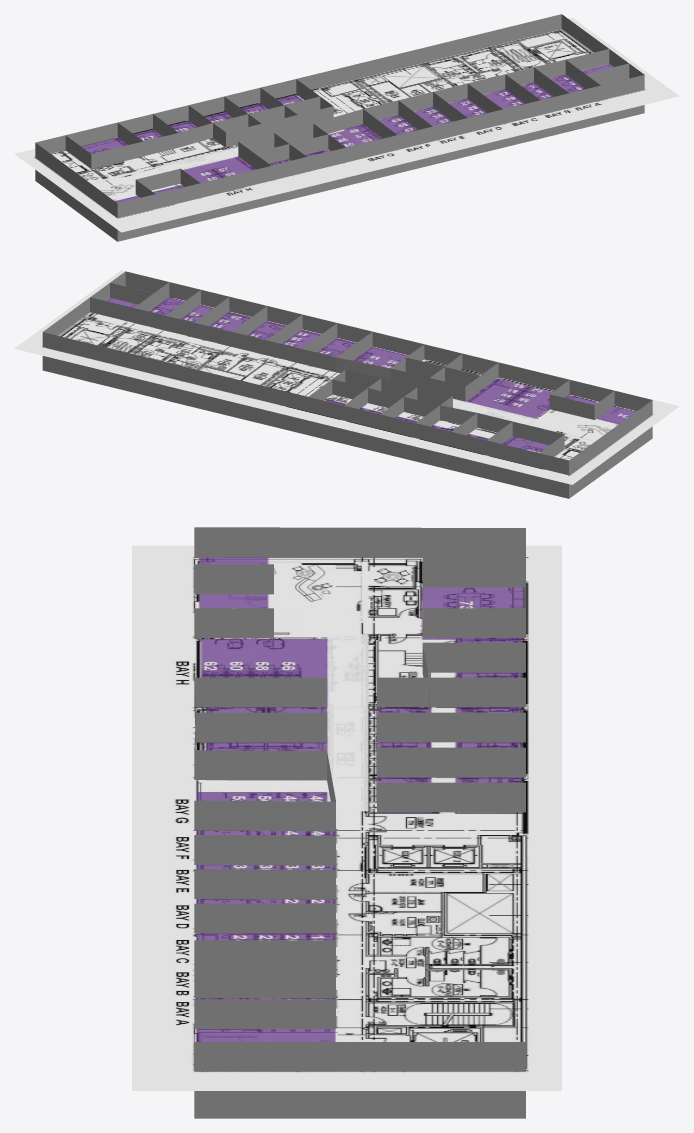
Rendered from floorplan_7th.glb.
3 renders of one model, top to bottom at view 1: azimuth 30°, elevation 25°; view 2: azimuth 150°, elevation 25°; view 3: azimuth 270°, elevation 25°, orthographic. The views are drawn at different scales.
Visible parts, largest first — view 1: Plane, seventhfloor; view 2: Plane, seventhfloor; view 3: seventhfloor, Plane.
Part boxes in pixels (box(x1,y1,x2,y2)): Plane: box(35, 14, 644, 241); seventhfloor: box(14, 17, 679, 232); Plane: box(42, 271, 652, 498); seventhfloor: box(14, 270, 679, 484); seventhfloor: box(132, 545, 561, 1090); Plane: box(194, 527, 525, 1118).
Size of the model in its own units: 12 by 0.7888 by 4.
2 materials, 1 textured.
